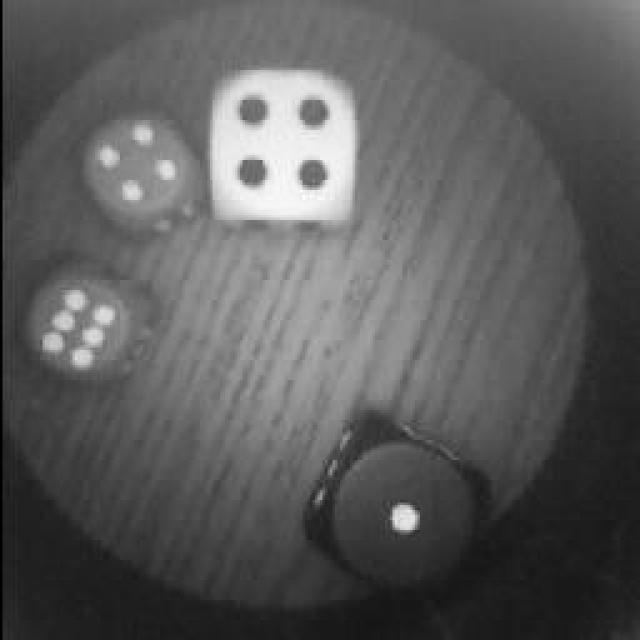dice_1: (302, 412, 488, 600)
dice_4: (195, 55, 370, 243), (72, 98, 210, 238)
dice_6: (18, 258, 152, 392)
